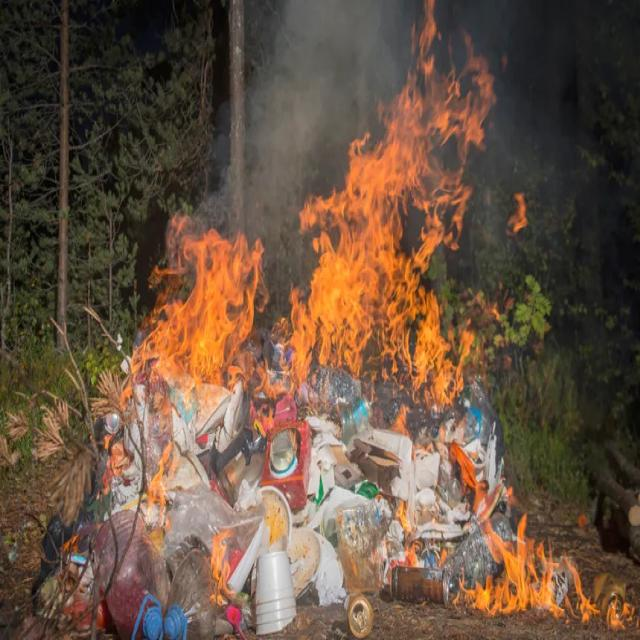fire: (265, 0, 497, 413), (129, 212, 264, 412), (454, 513, 638, 629), (146, 443, 172, 540), (211, 525, 236, 605), (394, 500, 418, 566)
